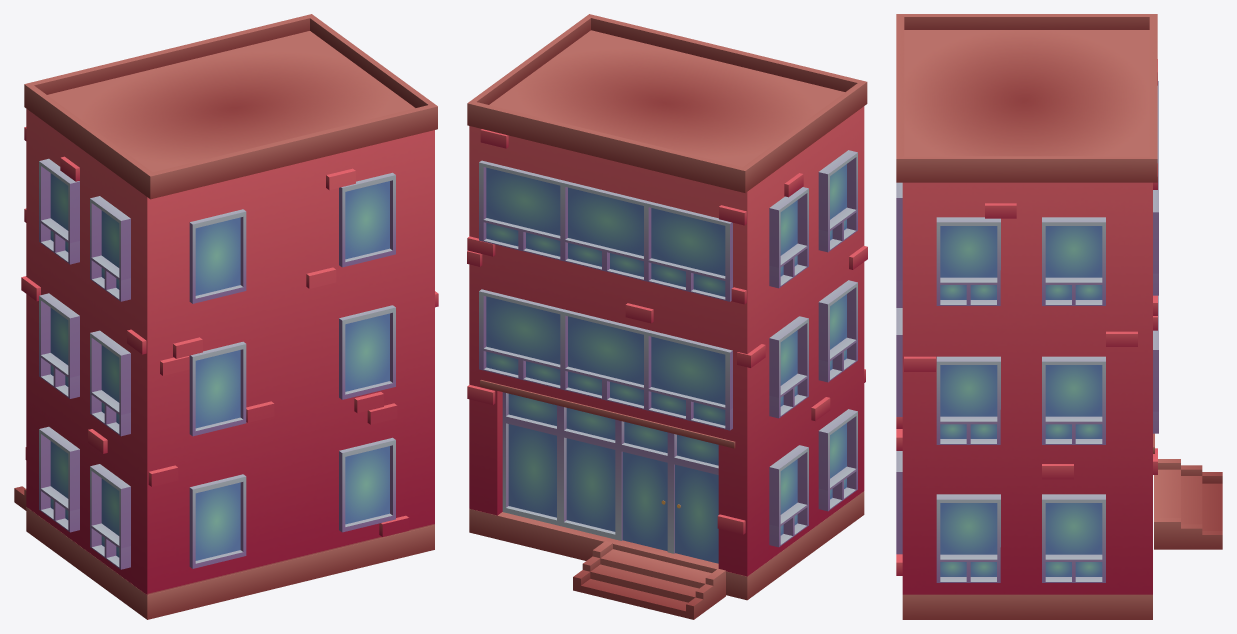
The model's file is SM_3F_R_Half_01.fbx.
The picture shows the model from 3 angles, left to right: view 1: azimuth 30°, elevation 25°; view 2: azimuth 150°, elevation 25°; view 3: azimuth 270°, elevation 25°; orthographic projection. The views are drawn at different scales.
Visible parts, largest first — view 1: SM_3F_R_Half_01; view 2: SM_3F_R_Half_01; view 3: SM_3F_R_Half_01.
Part boxes in pixels (x1,y1,x2,y2): SM_3F_R_Half_01: (14, 14, 438, 619); SM_3F_R_Half_01: (467, 14, 867, 619); SM_3F_R_Half_01: (896, 14, 1222, 619).
Bounding box in the file's own units: 7.78 × 6.92 × 10.8.
